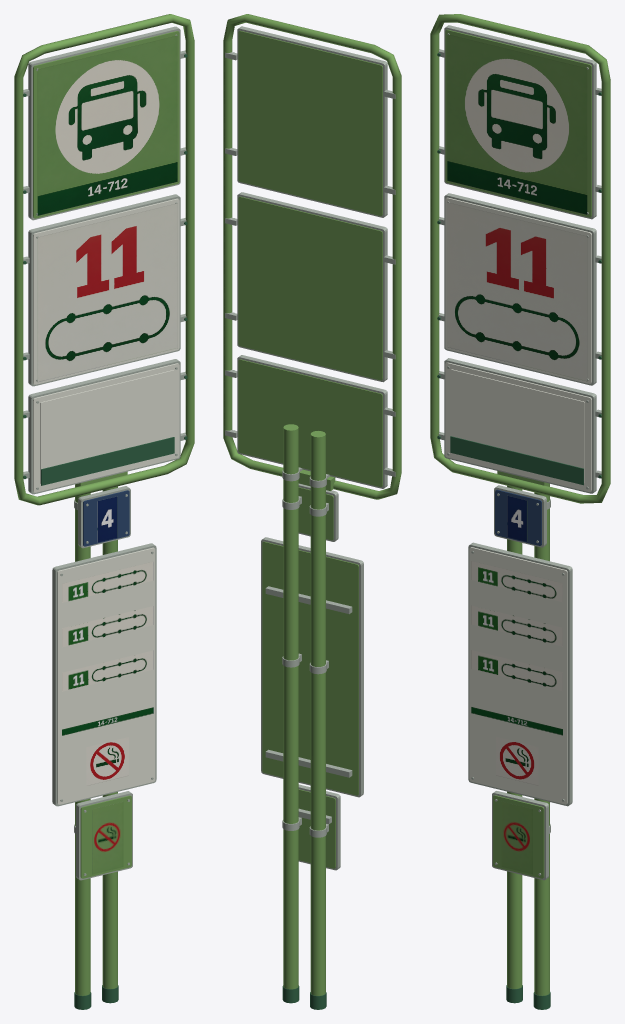
Rendered from bus-approved-v4.glb.
3 views of the same model, side by side, from view 1: azimuth 30°, elevation 25°; view 2: azimuth 150°, elevation 25°; view 3: azimuth 330°, elevation 25° (orthographic).
Parts seen in each view (by area): view 1: 마을버스 정류장 · 공용 디자인; view 2: 마을버스 정류장 · 공용 디자인; view 3: 마을버스 정류장 · 공용 디자인.
Boxes of the visible parts, <box> form: 마을버스 정류장 · 공용 디자인: <box>14,14,194,1009</box>; 마을버스 정류장 · 공용 디자인: <box>223,14,401,1009</box>; 마을버스 정류장 · 공용 디자인: <box>430,14,610,1009</box>.
Size of the model in its own units: 0.613 by 3.19 by 0.0945.
6 materials, 1 textured.
